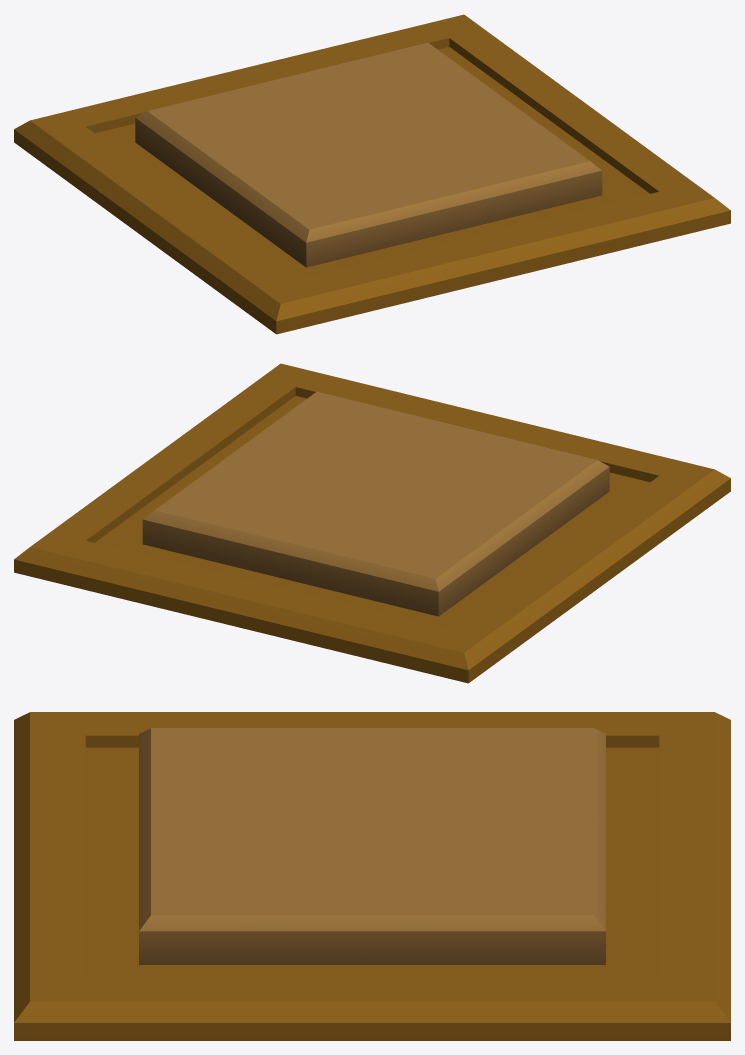
Rendered from Enviroment__Pressure_Plate.fbx.
The picture shows the model from 3 angles, top to bottom: view 1: azimuth 30°, elevation 25°; view 2: azimuth 150°, elevation 25°; view 3: azimuth 270°, elevation 25°; orthographic projection. The views are drawn at different scales.
Parts seen in each view (by area): view 1: Plane.003, Plane.004; view 2: Plane.003, Plane.004; view 3: Plane.003, Plane.004.
Part boxes in pixels (x1,y1,x2,y2): Plane.003: (14,14,730,334); Plane.004: (135,42,602,267); Plane.003: (14,363,730,683); Plane.004: (142,391,609,616); Plane.003: (14,712,730,1040); Plane.004: (139,728,605,964).
Bounding box in the file's own units: 20 × 2.01 × 20.
